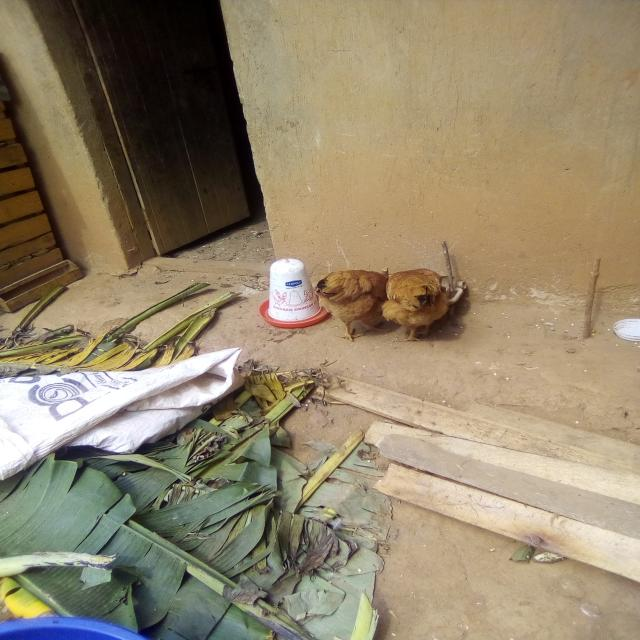hen: (200, 112, 547, 523)
